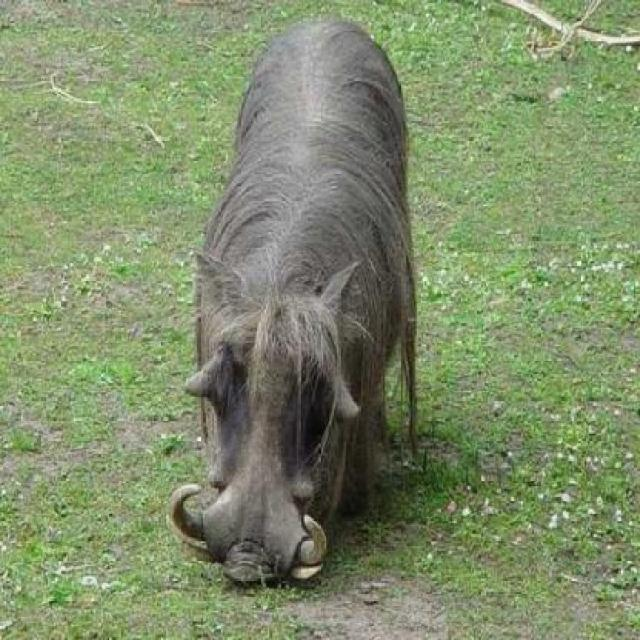Boar: (174, 3, 468, 605)
